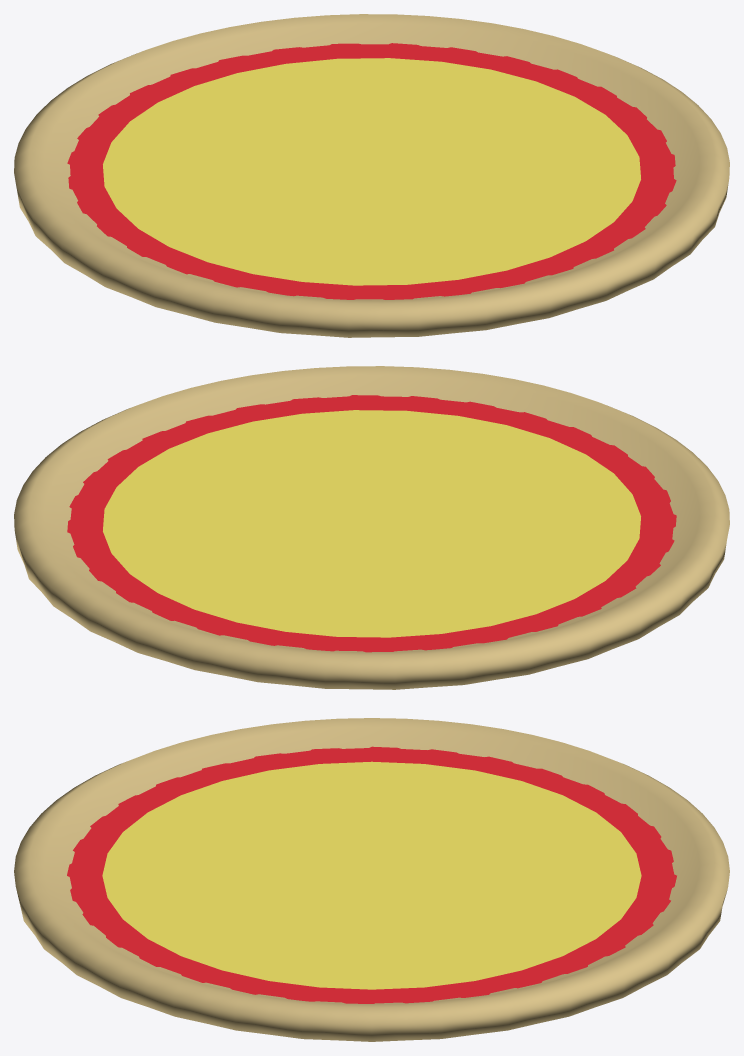
The model's file is FlattenedDoughCheese.glb.
3 views of the same model, one above another, from view 1: azimuth 30°, elevation 25°; view 2: azimuth 150°, elevation 25°; view 3: azimuth 270°, elevation 25° (orthographic).
Visible parts, largest first — view 1: Sauce.001, Dough; view 2: Sauce.001, Dough; view 3: Sauce.001, Dough.
Part boxes in pixels (x1,y1,x2,y2): Sauce.001: [67, 43, 676, 299]; Dough: [14, 14, 729, 337]; Sauce.001: [67, 395, 676, 652]; Dough: [14, 366, 729, 689]; Sauce.001: [67, 746, 676, 1003]; Dough: [14, 718, 729, 1041].
Size of the model in its own units: 1.95 by 0.1805 by 1.95.
